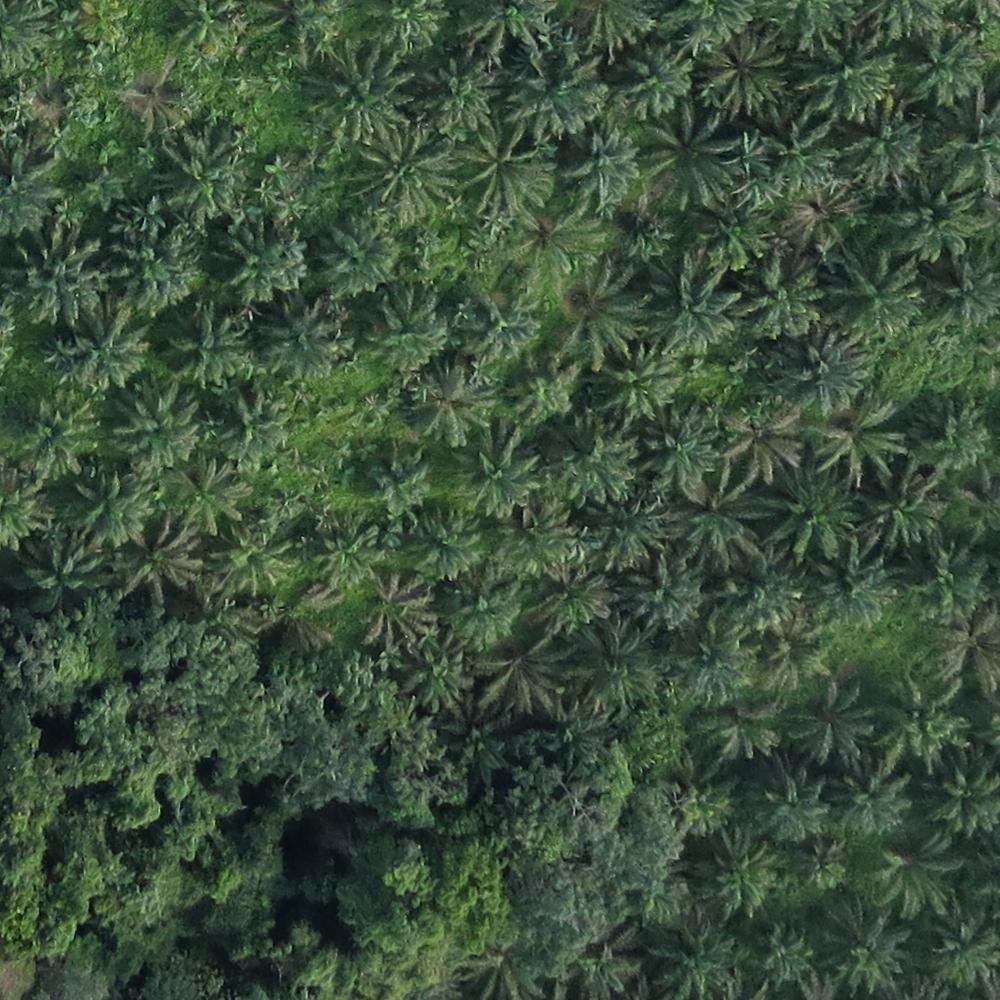Palm: (298, 41, 417, 141), (501, 43, 611, 139), (4, 229, 105, 323), (357, 134, 460, 226), (107, 383, 203, 476), (891, 164, 980, 262), (150, 125, 245, 216), (644, 259, 738, 350), (449, 428, 544, 518), (641, 117, 737, 204), (814, 905, 910, 989), (546, 417, 633, 509), (804, 28, 894, 116), (460, 133, 553, 217), (765, 467, 852, 556), (212, 215, 306, 297), (250, 297, 337, 385), (697, 831, 784, 919), (58, 313, 149, 394), (872, 835, 964, 914), (858, 468, 945, 550), (742, 250, 827, 333), (165, 301, 250, 383), (691, 31, 779, 110), (922, 752, 1000, 841), (613, 40, 695, 124), (782, 330, 866, 412), (829, 756, 917, 834), (635, 410, 717, 493), (12, 402, 101, 478), (64, 474, 154, 549), (655, 916, 738, 995), (908, 391, 987, 474), (313, 217, 394, 297), (749, 768, 833, 844), (366, 293, 447, 371), (168, 461, 250, 538), (814, 550, 896, 626), (215, 386, 295, 461), (847, 107, 924, 184), (620, 563, 703, 634), (210, 525, 289, 599), (907, 29, 983, 105), (423, 57, 499, 130), (565, 130, 638, 202), (311, 515, 384, 586), (410, 509, 483, 577)
